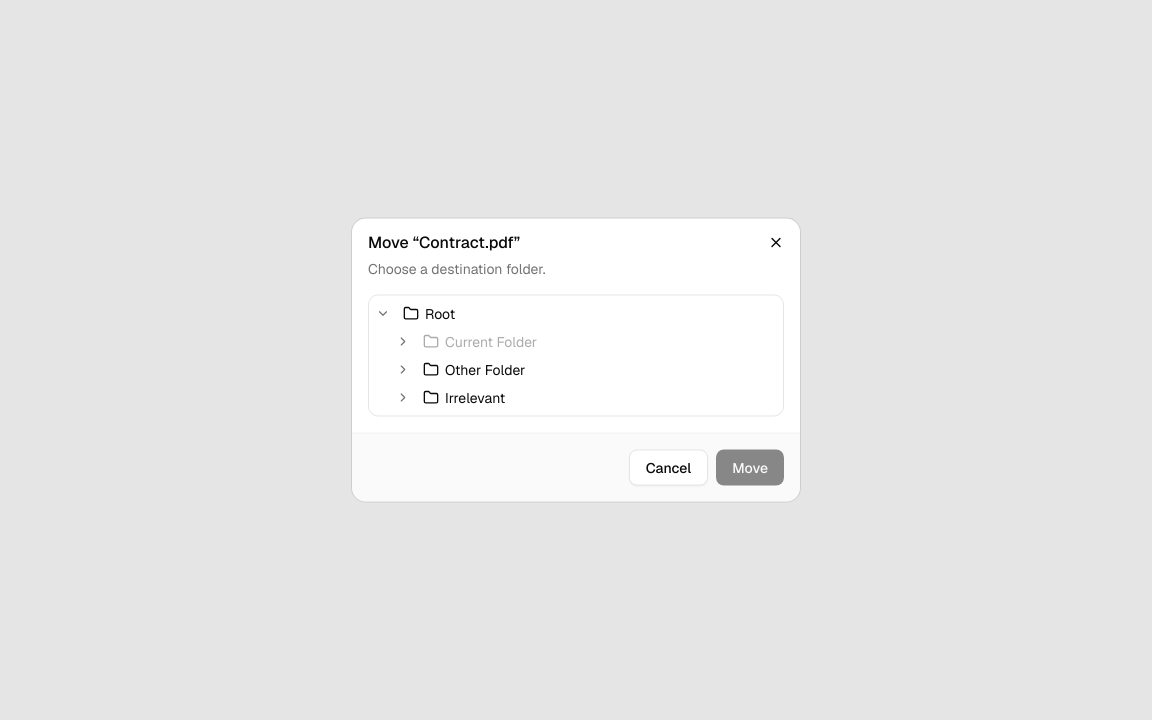
Test: MoveDialog › renders the current parent as disabled with "already here", and lets a valid destination be selected
The width and height of the screenshot is (1152, 720).
Expected: the list item "Current Folder" is disabled, [417,328,543,356]
Expected: the button "Move" is disabled, [716,450,784,486]
Click the list item "Other Folder" at (485, 370), box [417,356,779,384]
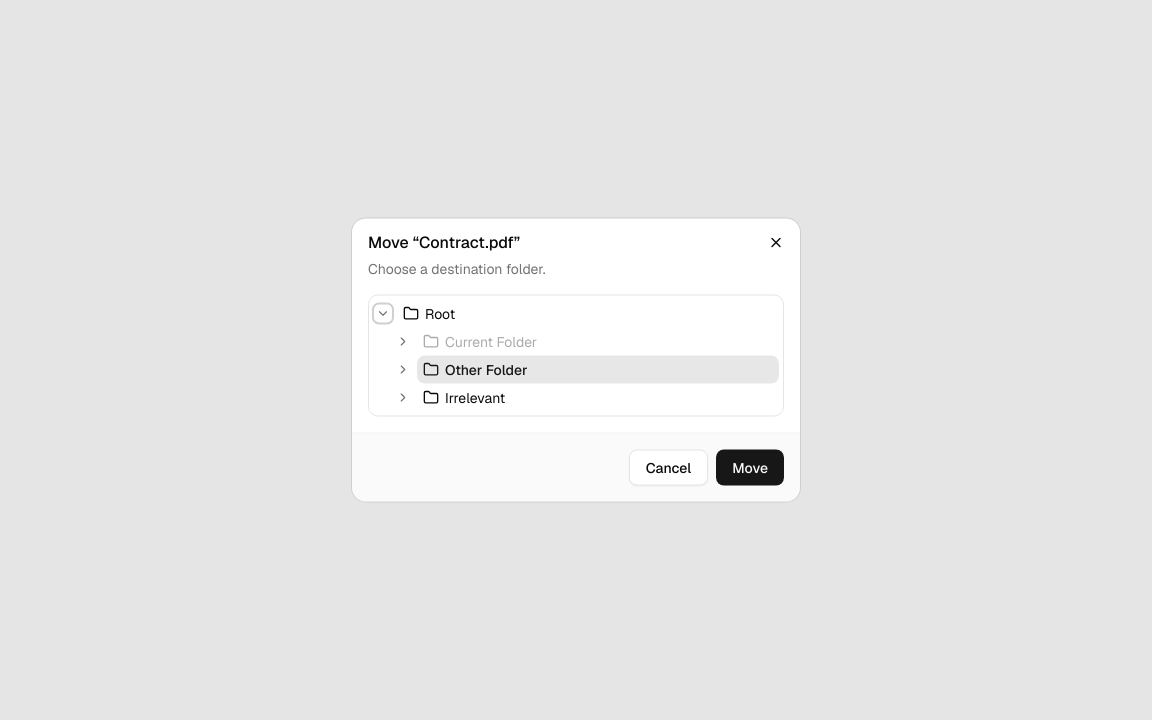
Now the button "Move" is enabled, box [716,450,784,486]
